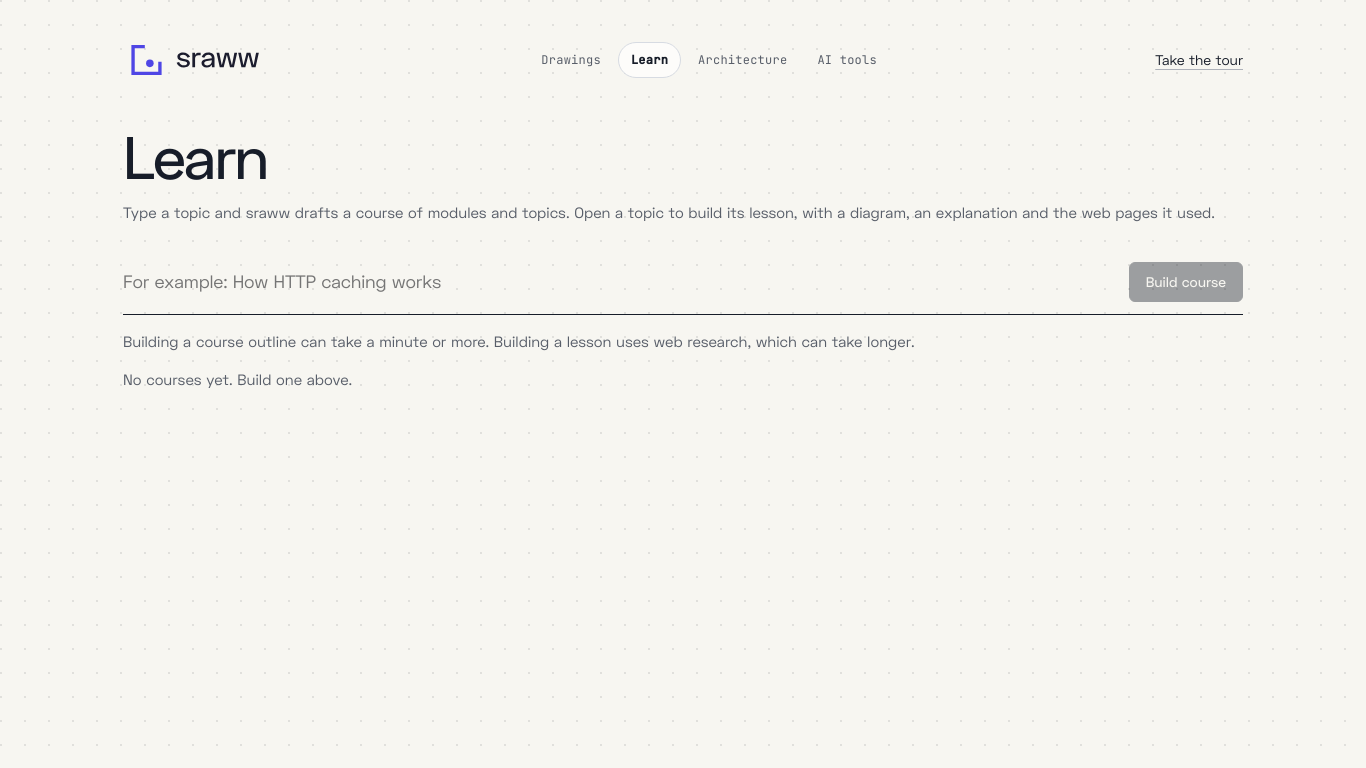
Test: LearnPage › typing a new topic after a failed build clears the alert and restores Build course
The width and height of the screenshot is (1366, 768).
Type "HTTP caching" into the field named "Topic" at (620, 282), box [123,256,1117,308]
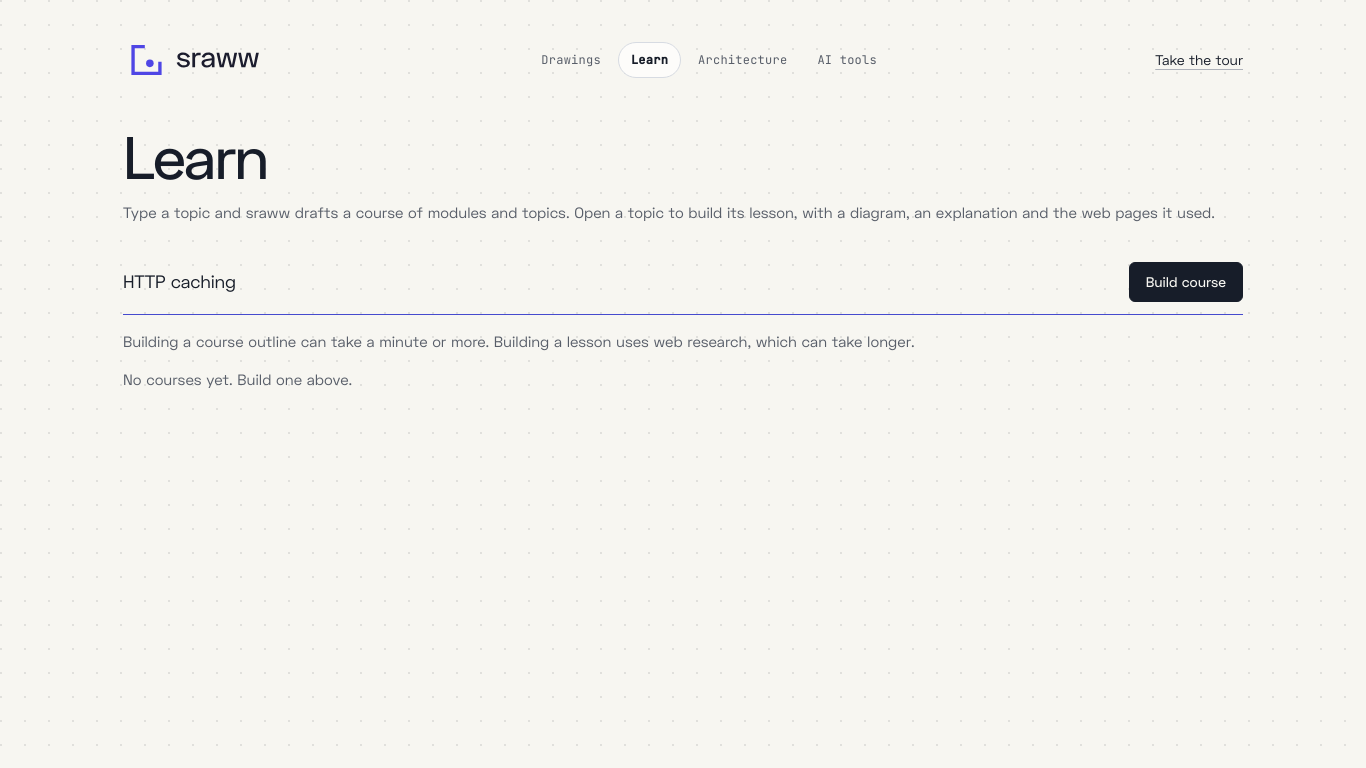
Click the button "Build course" at (1186, 282), box [1129,262,1243,302]
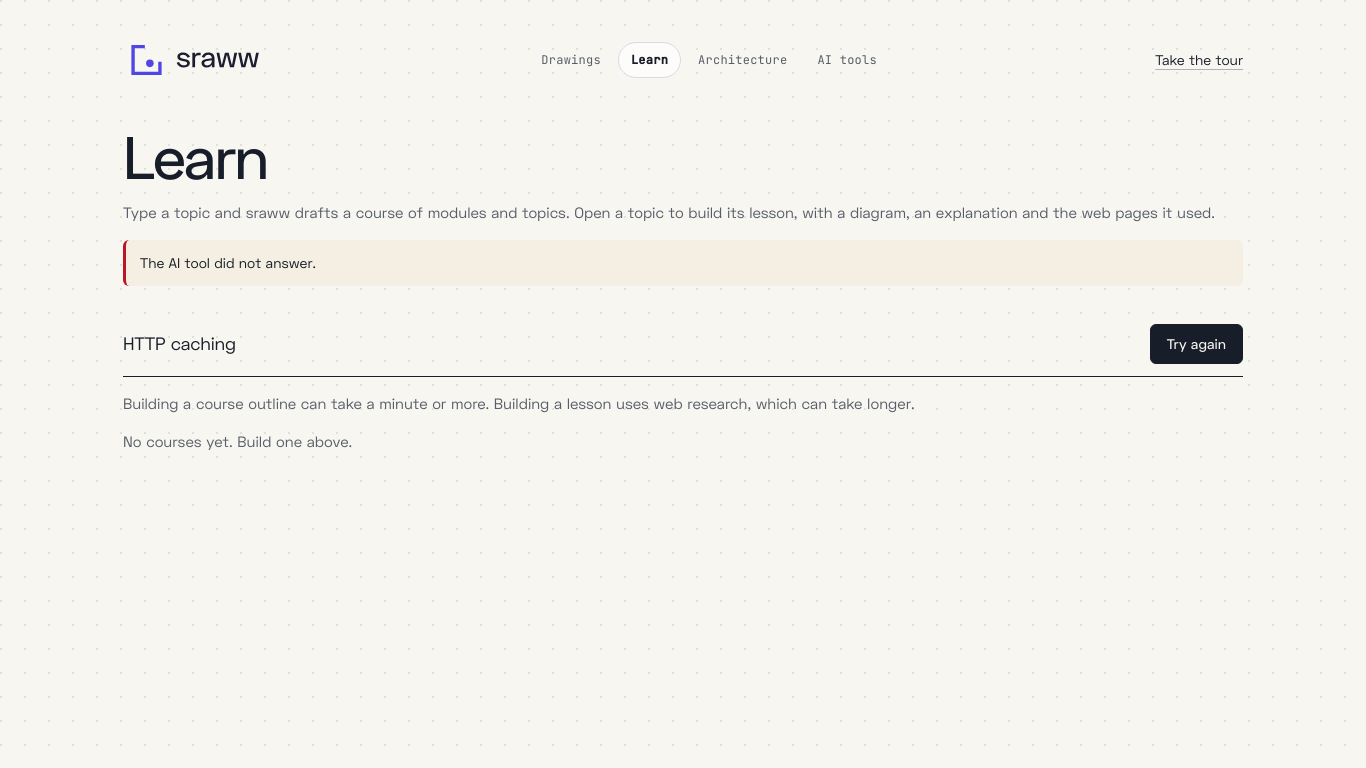
Expected: the message "The AI tool did not answer." is shown, [123,240,1243,286]
Type "x" into the field named "Topic" at (630, 344), box [123,318,1138,370]
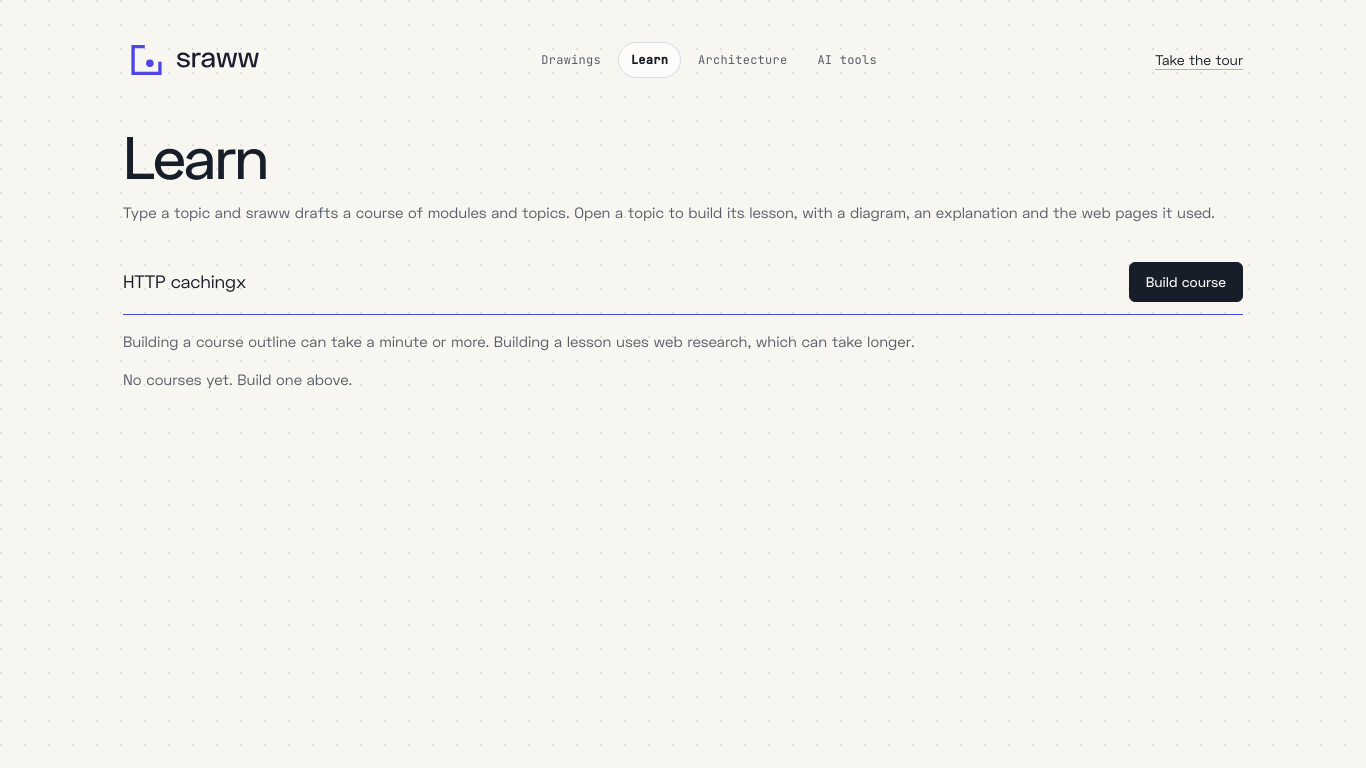
Expected: the button "Build course" is enabled, [1129,262,1243,302]
Expected: the message "The AI tool did not answer." is gone
